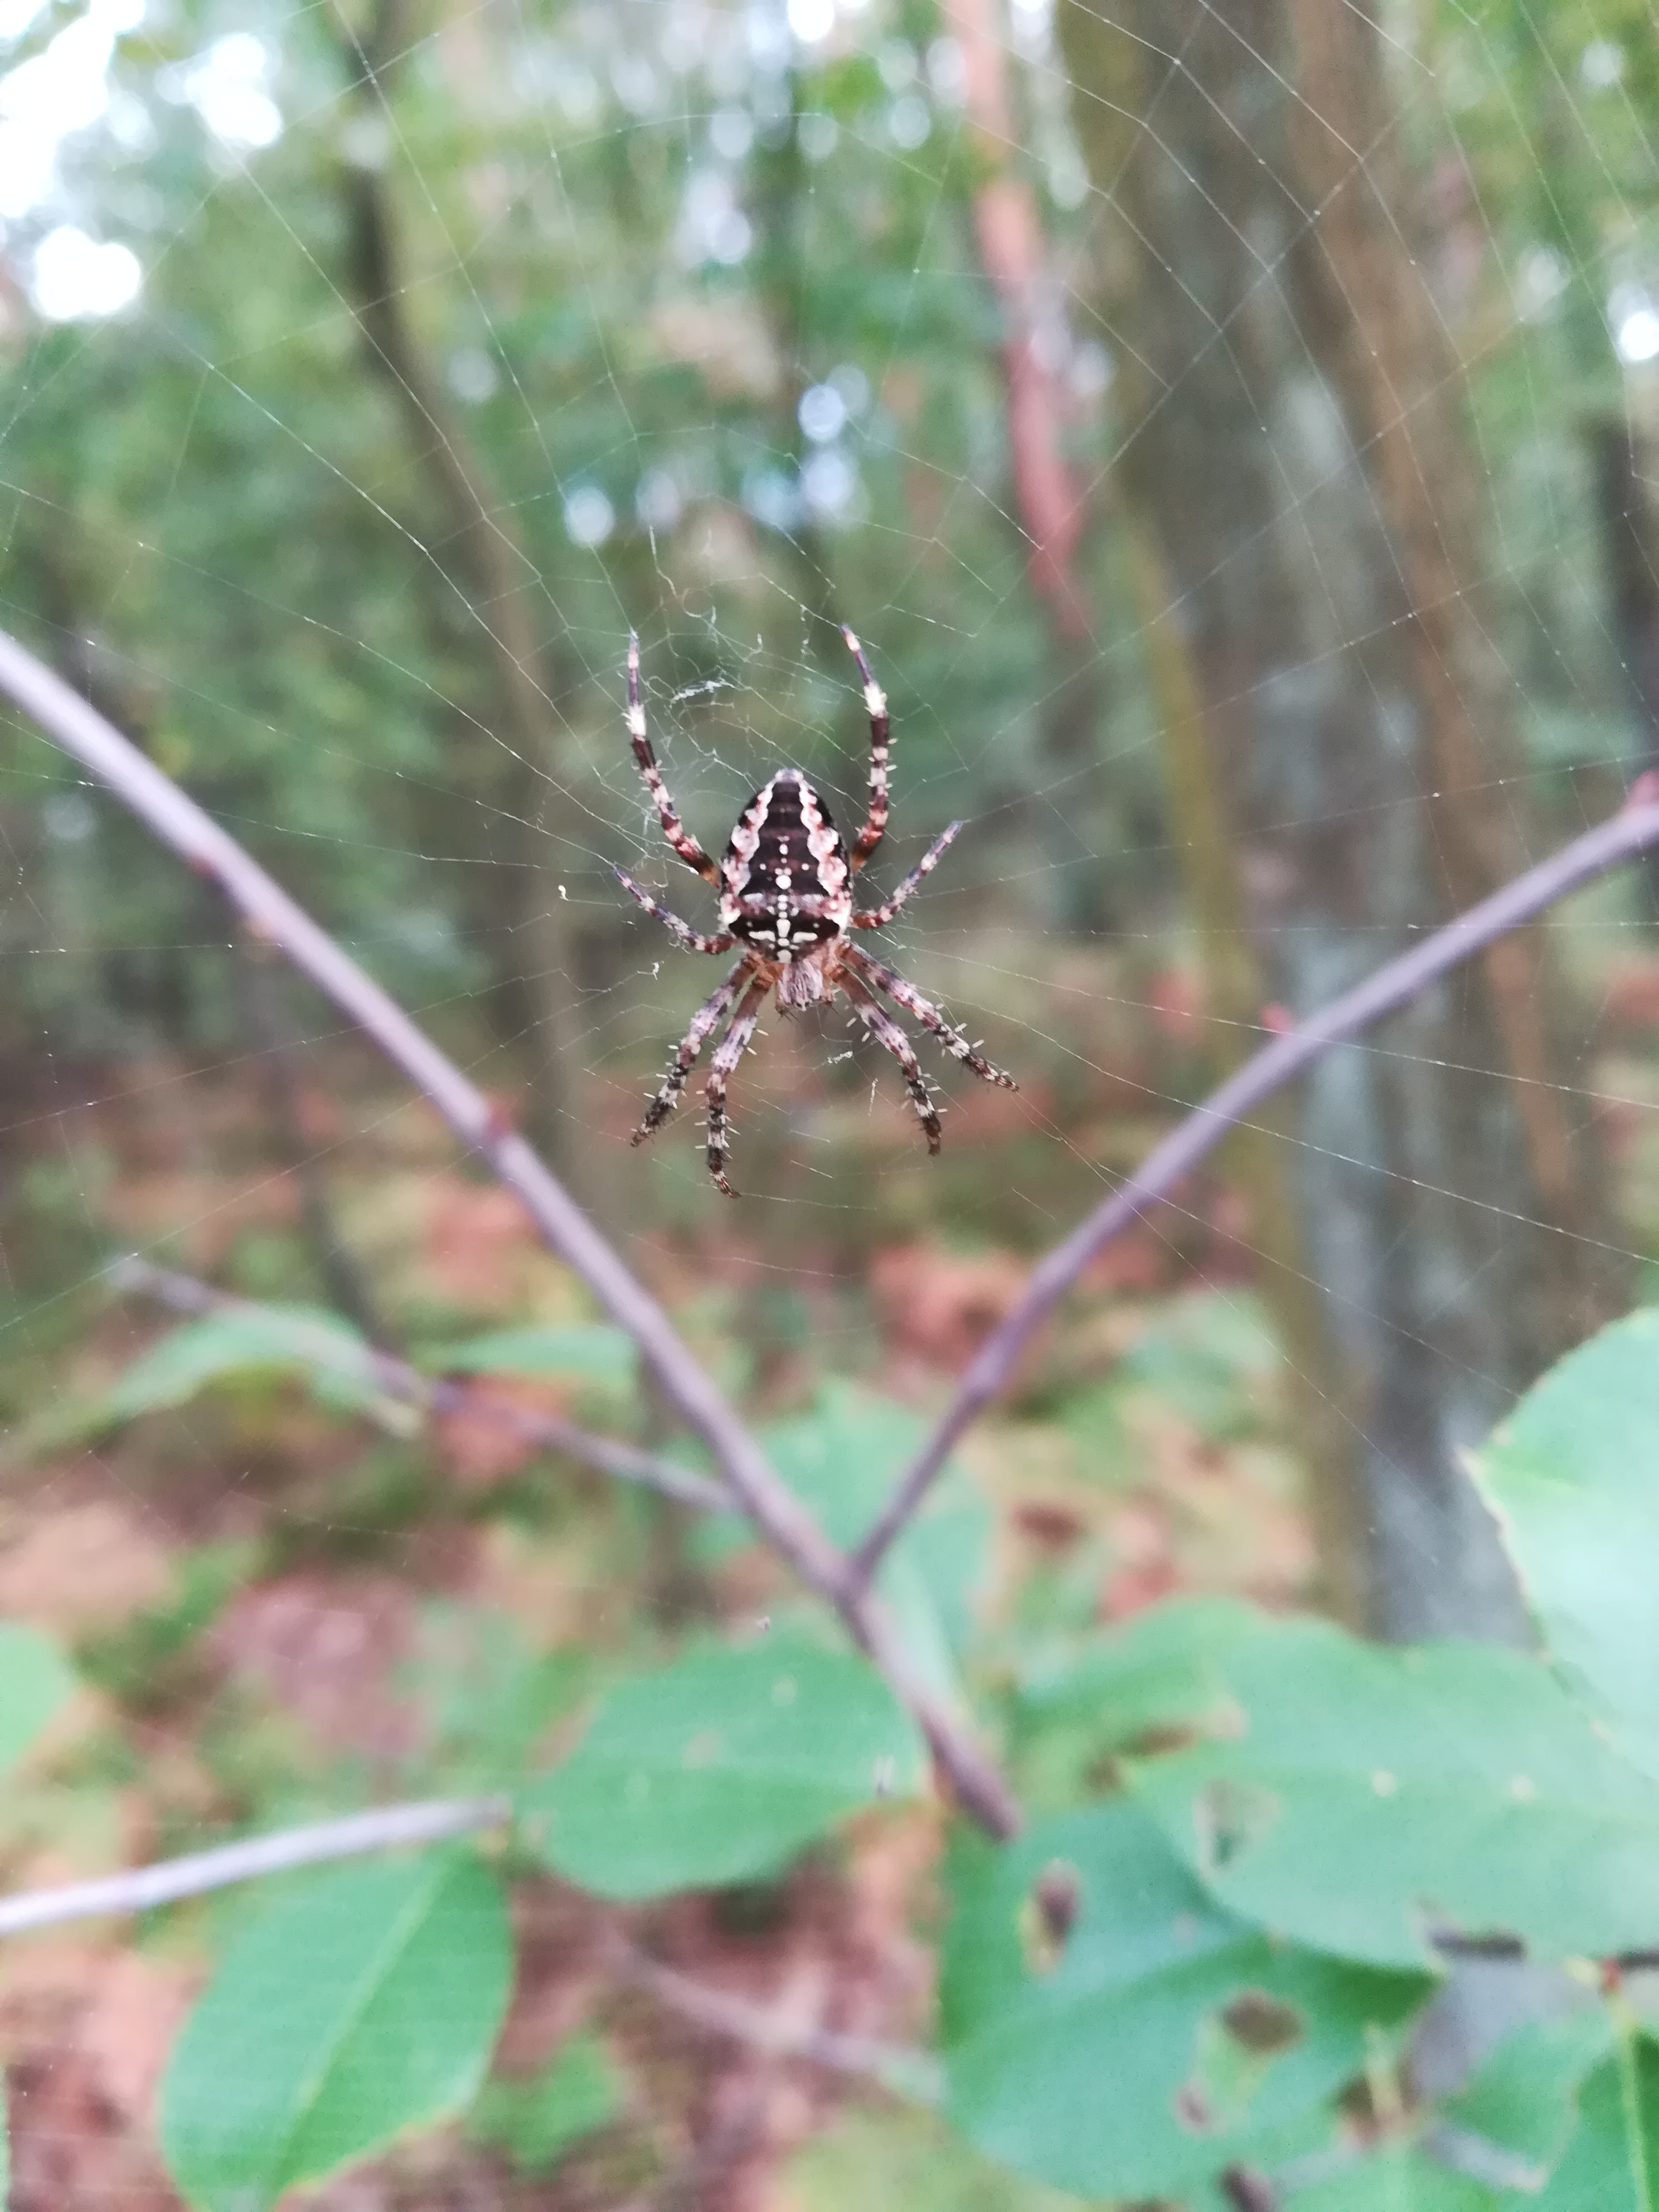spider: (572, 587, 1037, 1211)
